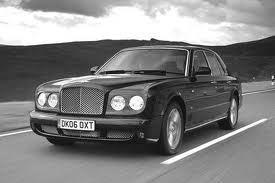car: (26, 45, 244, 155)
